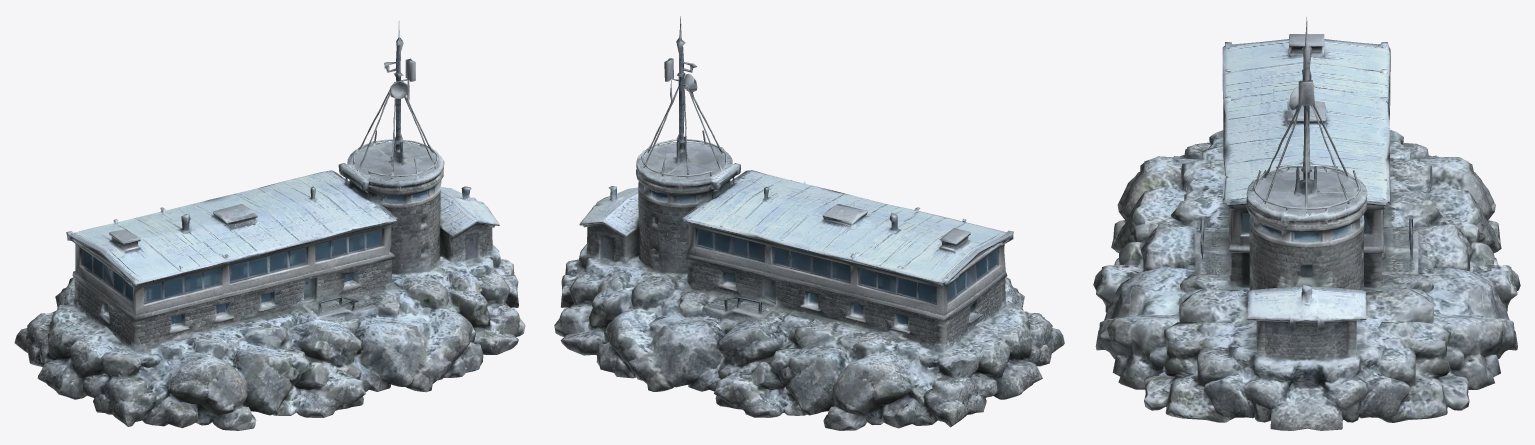
Rendered from washington-summit.glb.
3 renders of one model, left to right at view 1: azimuth 30°, elevation 25°; view 2: azimuth 150°, elevation 25°; view 3: azimuth 270°, elevation 25°, orthographic. The views are drawn at different scales.
Parts seen in each view (by area): view 1: tripo_node_d14cbb10-98d2-4474-8312-c4a4116a5f6e; view 2: tripo_node_d14cbb10-98d2-4474-8312-c4a4116a5f6e; view 3: tripo_node_d14cbb10-98d2-4474-8312-c4a4116a5f6e.
Part boxes in pixels (bbox=[...]): tripo_node_d14cbb10-98d2-4474-8312-c4a4116a5f6e: bbox=[14, 20, 525, 430]; tripo_node_d14cbb10-98d2-4474-8312-c4a4116a5f6e: bbox=[554, 16, 1064, 430]; tripo_node_d14cbb10-98d2-4474-8312-c4a4116a5f6e: bbox=[1093, 17, 1520, 430].
Size of the model in its own units: 1 by 0.6292 by 0.6574.
Materials: 1 (1 with a texture image).
